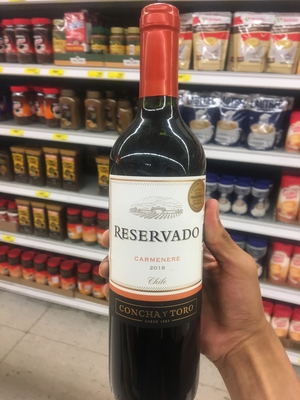reservado carmenere: (102, 6, 216, 399)
